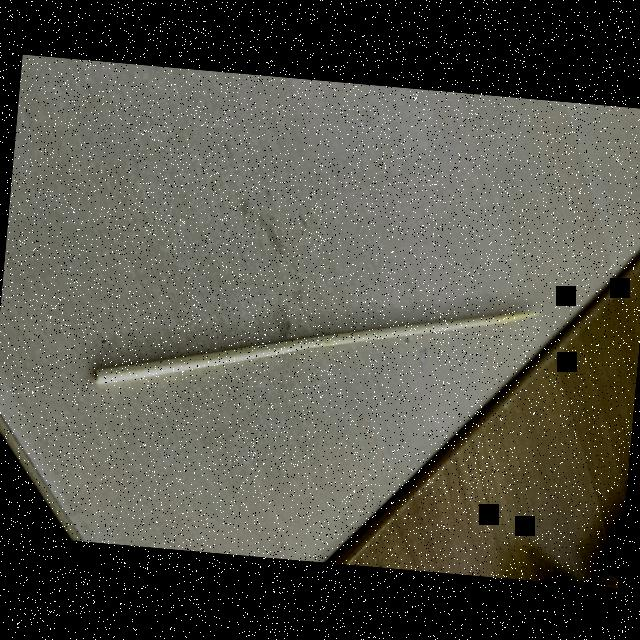stick: (86, 253, 543, 424)
